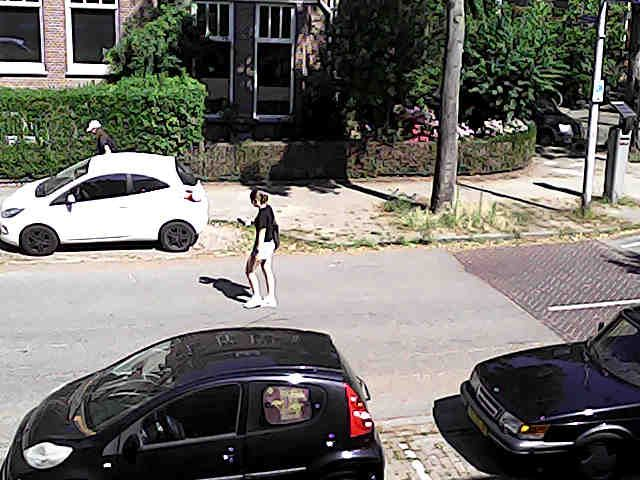male: (244, 189, 276, 307), (87, 120, 115, 154)
suv: (0, 328, 384, 479), (461, 307, 639, 479), (0, 152, 207, 255)
